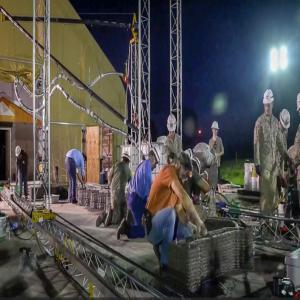none: (176, 154, 193, 186), (82, 154, 88, 167)
white: (264, 89, 275, 117), (280, 109, 292, 133), (150, 147, 162, 169), (167, 114, 177, 138), (123, 151, 131, 166), (15, 146, 23, 161), (212, 121, 219, 138)
